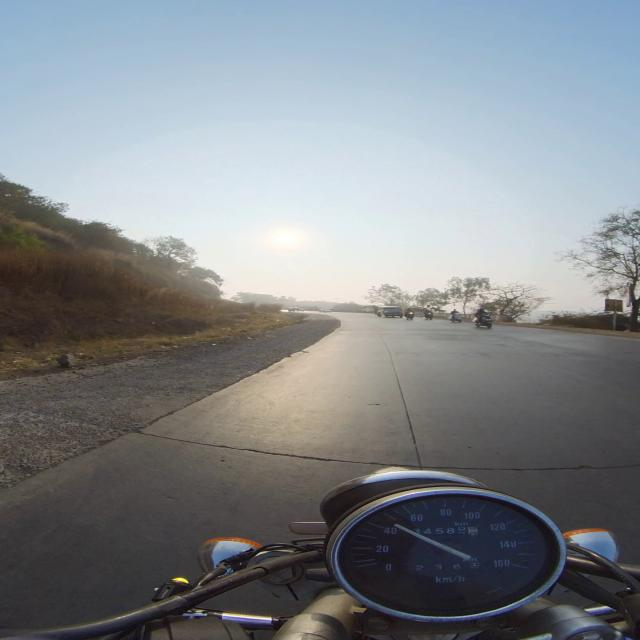car: (378, 306, 403, 317), (320, 309, 331, 312)
motorcycle: (10, 468, 639, 639), (475, 314, 493, 328), (451, 312, 464, 323), (404, 312, 415, 321), (424, 311, 433, 320)
